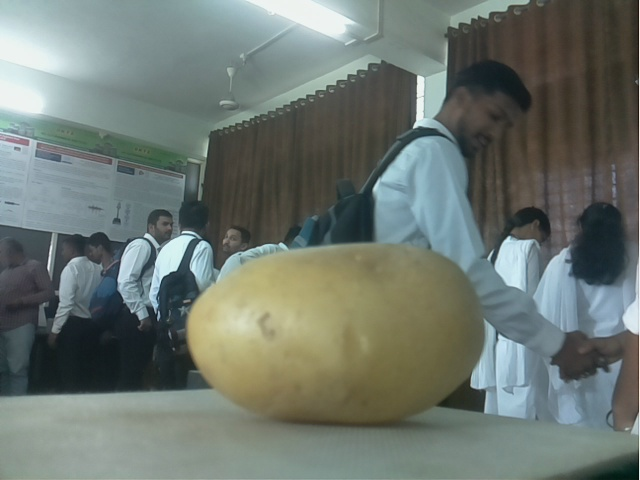Potato: (187, 242, 485, 424)
